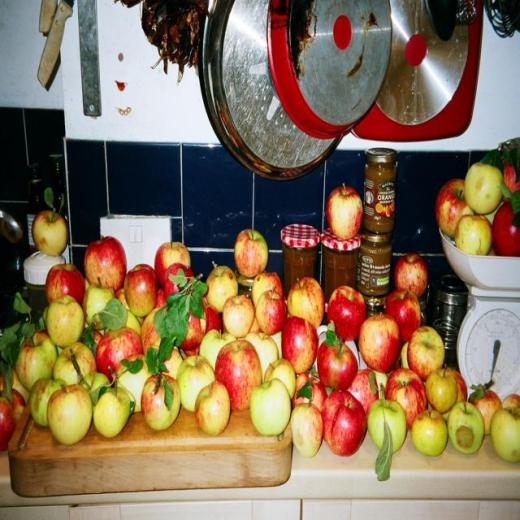Apple: (0, 226, 520, 462), (436, 144, 520, 254), (80, 237, 122, 300), (326, 184, 364, 238), (31, 212, 68, 257)
